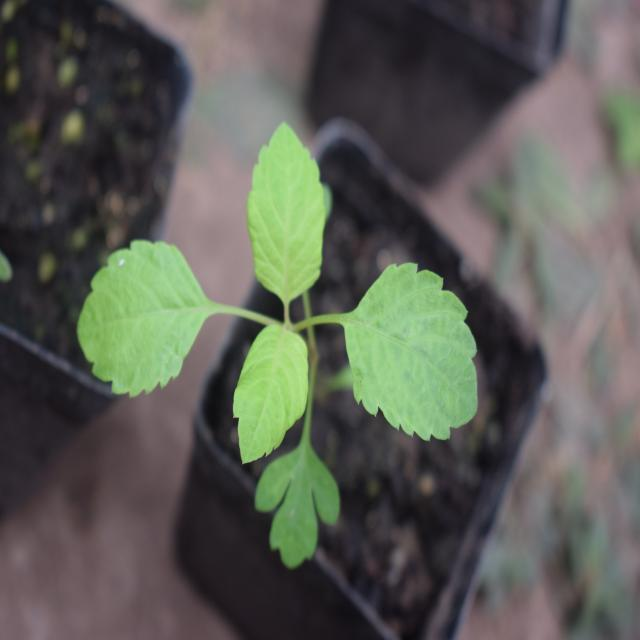Bidens pilosa: (88, 153, 471, 542)
